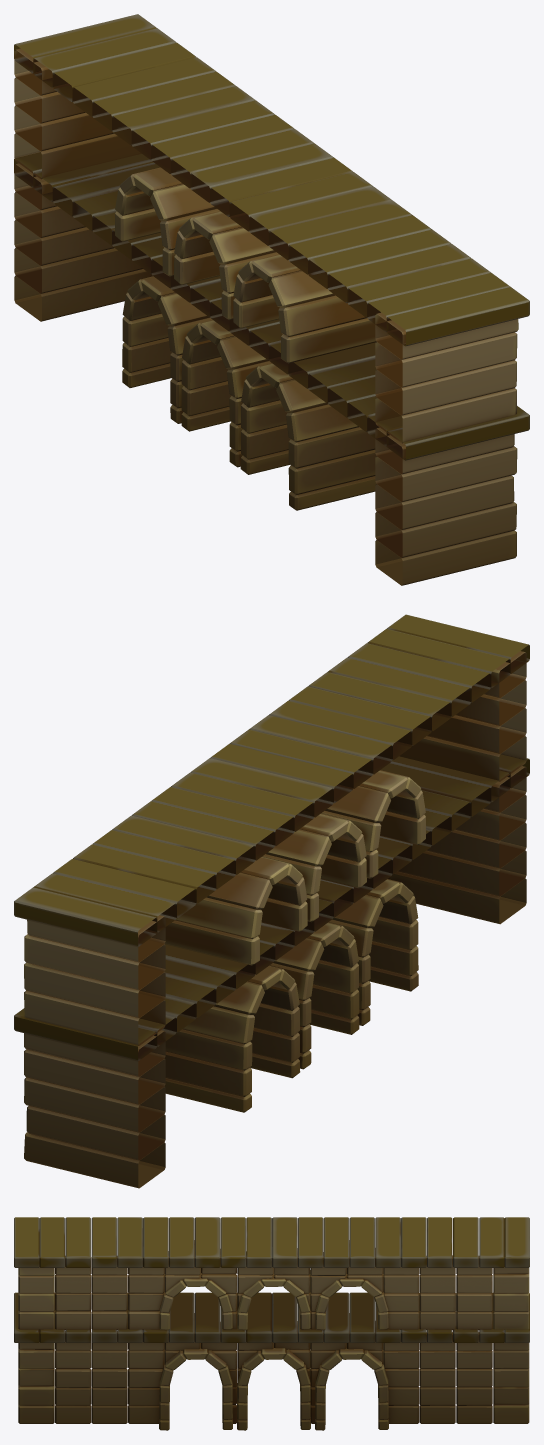
File: kemer.fbx
3 renders of one model, top to bottom at view 1: azimuth 30°, elevation 25°; view 2: azimuth 150°, elevation 25°; view 3: azimuth 270°, elevation 25°, orthographic. The views are drawn at different scales.
Visible parts, largest first — view 1: Cube.004; view 2: Cube.004; view 3: Cube.004.
Part boxes in pixels (left/top/right/bottom): Cube.004: left=14, top=14, right=529, bottom=585; Cube.004: left=14, top=614, right=529, bottom=1188; Cube.004: left=14, top=1217, right=529, bottom=1430.
Size of the model in its own units: 721 by 1336 by 3617.
